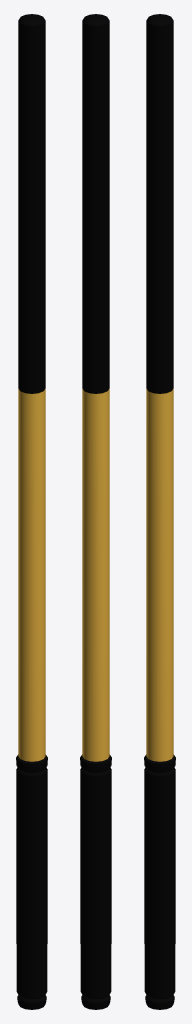
Rendered from Sea_Mark_Cardinal_North.fbx.
3 views of the same model, side by side, from view 1: azimuth 30°, elevation 25°; view 2: azimuth 150°, elevation 25°; view 3: azimuth 330°, elevation 25° (orthographic).
Visible parts, largest first — view 1: Mdl_SeaSign_Cardinal_North; view 2: Mdl_SeaSign_Cardinal_North; view 3: Mdl_SeaSign_Cardinal_North.
Boxes of the visible parts, x1=… form: Mdl_SeaSign_Cardinal_North: x1=16, y1=14, x2=47, y2=1009; Mdl_SeaSign_Cardinal_North: x1=80, y1=14, x2=111, y2=1009; Mdl_SeaSign_Cardinal_North: x1=144, y1=14, x2=175, y2=1009.
Size of the model in its own units: 0.0583 by 2.01 by 0.0583.
